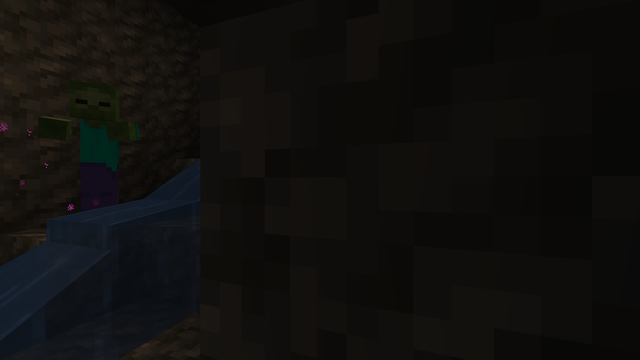zombies: (72, 82, 130, 225)
